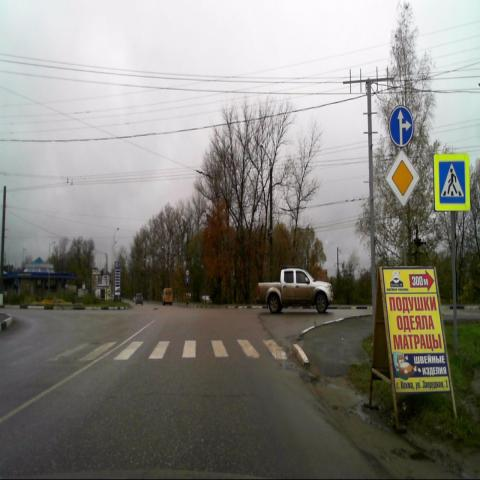4_1_4: (388, 104, 414, 147)
